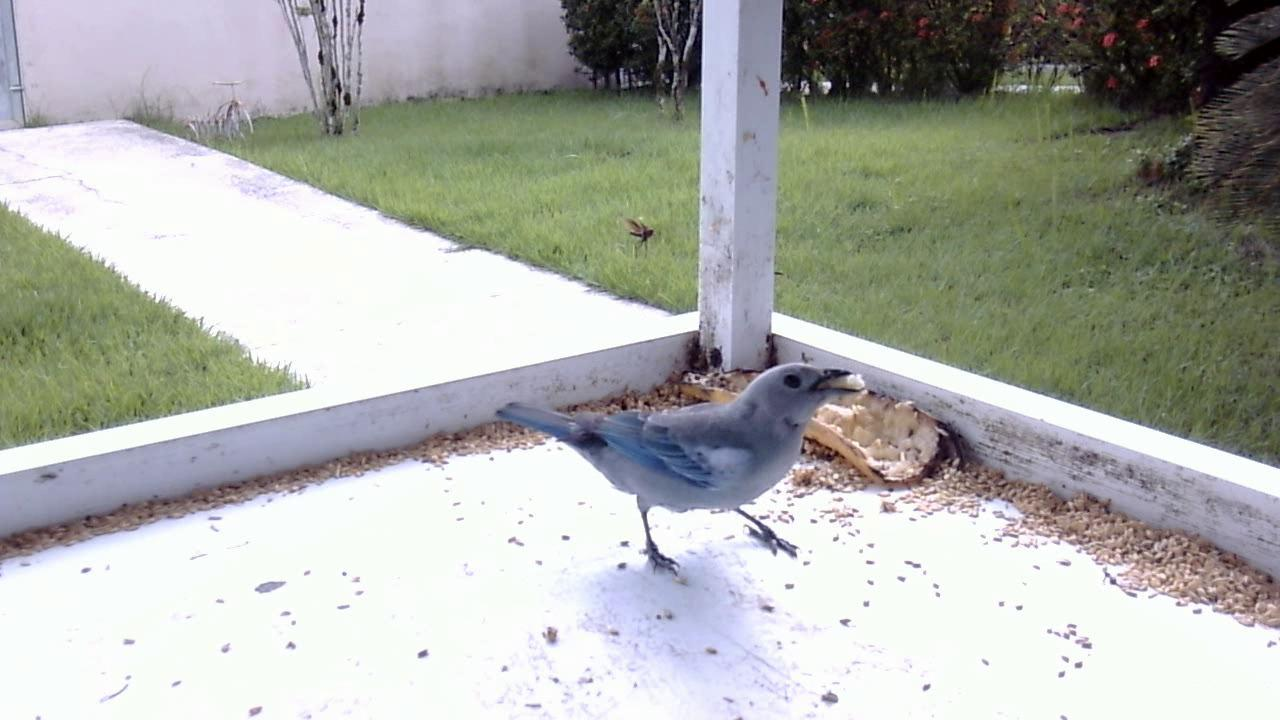sanhaco_da_amazonia: (496, 365, 862, 586)
